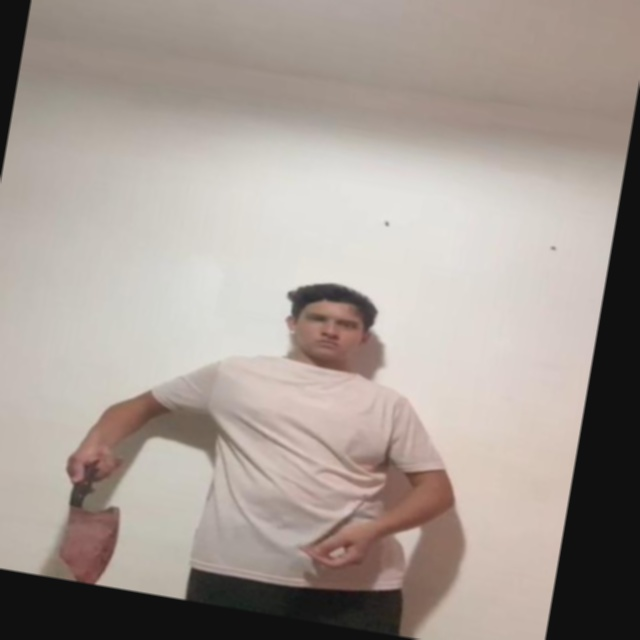Sharp-Object: (50, 496, 129, 588)
